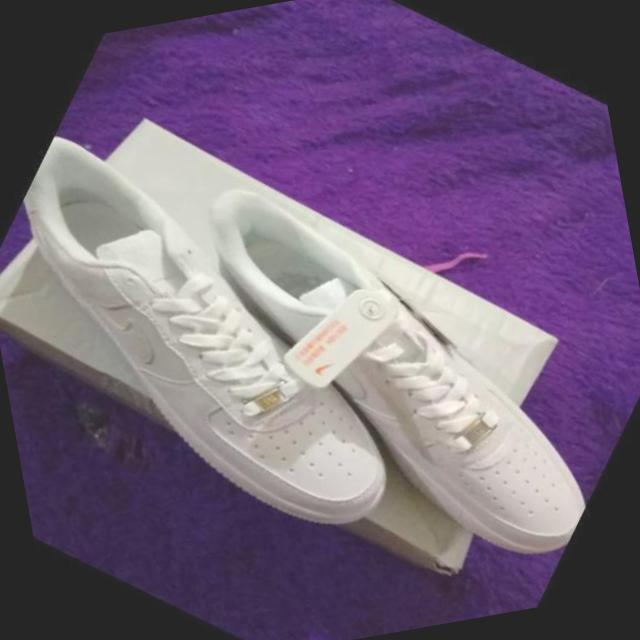nike_fake_airforce: (101, 106, 640, 636), (0, 67, 499, 604)
